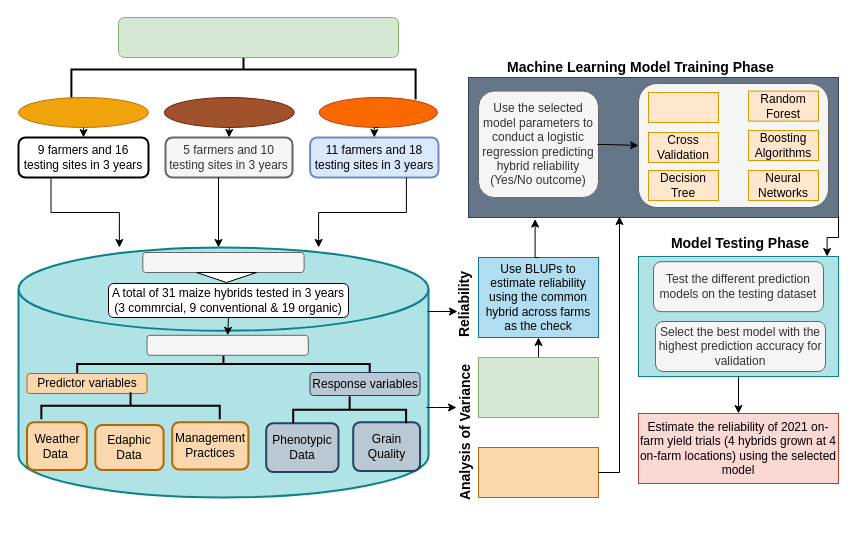
Image size: 864x557. Some labels were removed from this diagram. The centre of each missing label's shape, as x and y in pixels:
"Data Collection" belongs at point 227,344.
"Germplasm" belongs at point 223,262.
"IlLINOIS" belongs at point 83,112.
"INDIANA" belongs at point 228,112.
"Participatory Variety Testing Network" belongs at point 258,37.
"Simple Linear Regression Model (Estimate hybrid BLUPs)" belongs at point 538,387.
"Step-wise regression (Choose relevant model parameters)" belongs at point 538,472.
"SVM" belongs at point 683,107.
"WISCONSIN" belongs at point 378,112.
